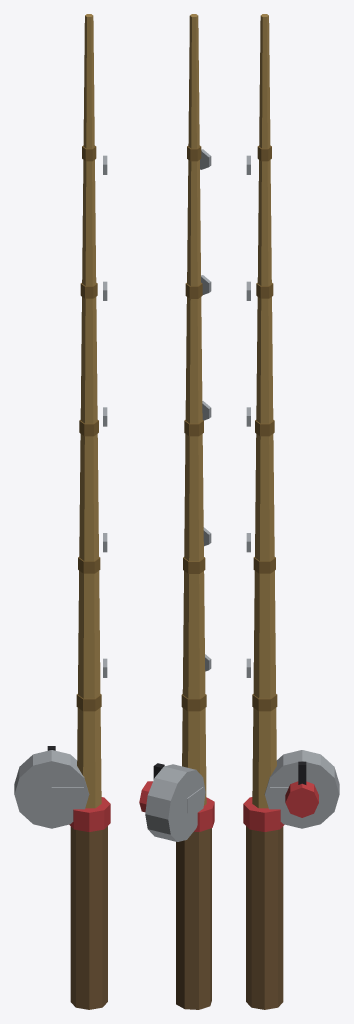
File: rod.glb
The picture shows the model from 3 angles, left to right: view 1: azimuth 90°, elevation 25°; view 2: azimuth 150°, elevation 25°; view 3: azimuth 270°, elevation 25°; orthographic projection.
Parts seen in each view (by area): view 1: rod; view 2: rod; view 3: rod.
Part boxes in pixels (bbox=[...]): rod: bbox=[14, 14, 110, 1009]; rod: bbox=[139, 14, 214, 1009]; rod: bbox=[243, 14, 339, 1009].
Size of the model in its own units: 0.1 by 2.04 by 0.18.
